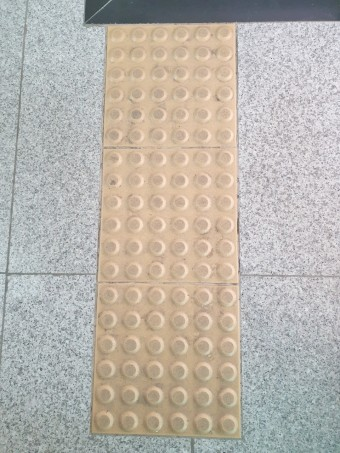warningBlock: (85, 276, 249, 434), (99, 154, 239, 279), (109, 22, 230, 149)
